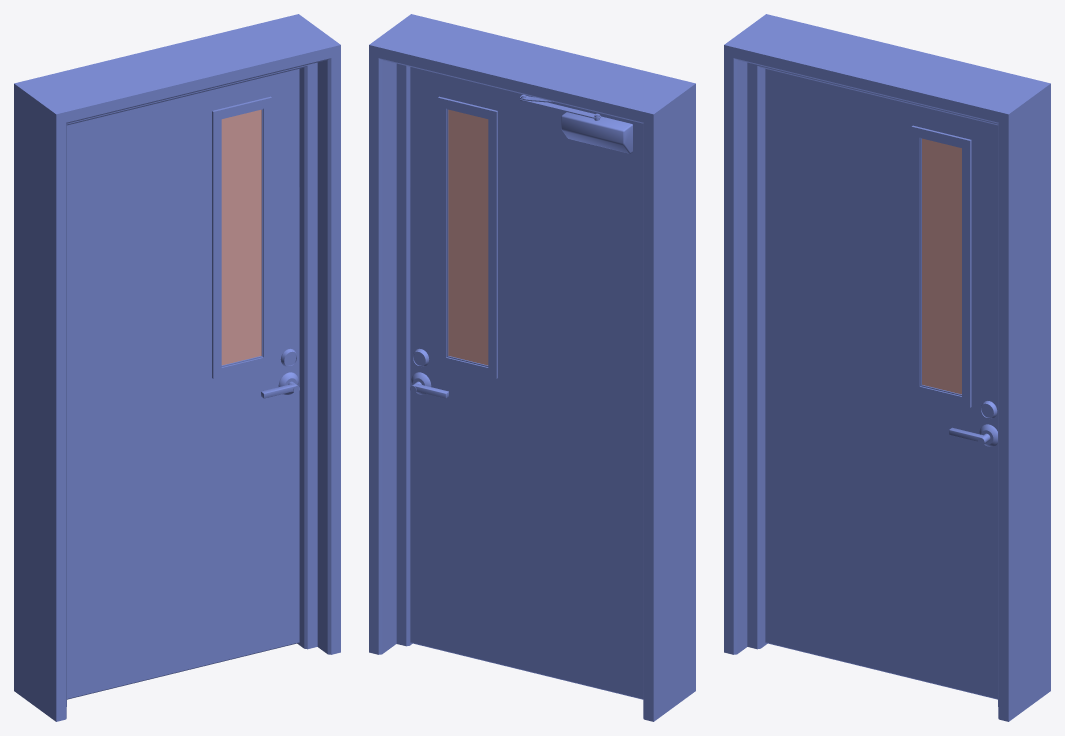
The model's file is service_door_1.fbx.
3 renders of one model, left to right at view 1: azimuth 30°, elevation 25°; view 2: azimuth 150°, elevation 25°; view 3: azimuth 330°, elevation 25°, orthographic.
Parts seen in each view (by area): view 1: service_door_1, service_door_1_frame, service_door_1_glass; view 2: service_door_1, service_door_1_frame, service_door_1_glass; view 3: service_door_1, service_door_1_frame, service_door_1_glass.
Part boxes in pixels (x1,y1,x2,y2): service_door_1: (67,69,299,699); service_door_1_frame: (14,14,340,721); service_door_1_glass: (221,109,261,365); service_door_1: (410,67,643,699); service_door_1_frame: (369,14,695,721); service_door_1_glass: (448,109,488,365); service_door_1: (765,69,997,699); service_door_1_frame: (724,14,1050,721); service_door_1_glass: (922,138,961,394).
Bounding box in the file's own units: 108 × 220 × 27.78.
